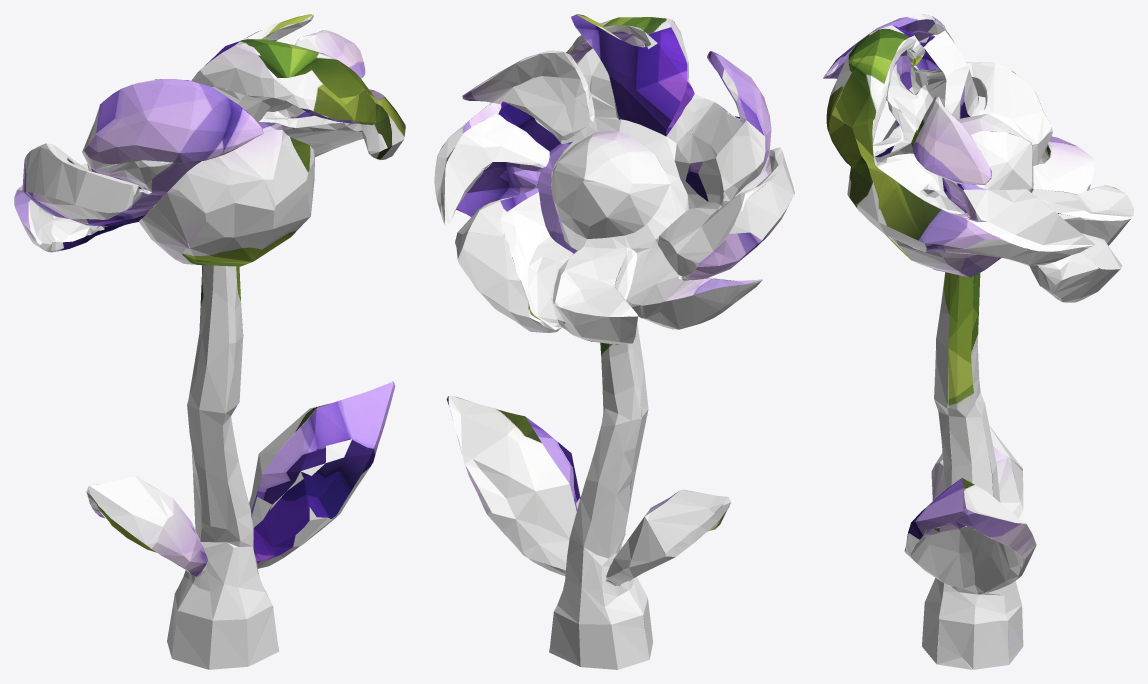
The model's file is MoonPetal_mature.obj.
The picture shows the model from 3 angles, left to right: view 1: azimuth 30°, elevation 25°; view 2: azimuth 150°, elevation 25°; view 3: azimuth 270°, elevation 25°; orthographic projection. The views are drawn at different scales.
Parts seen in each view (by area): view 1: MoonPetal_mature; view 2: MoonPetal_mature; view 3: MoonPetal_mature.
Part boxes in pixels (<box>): MoonPetal_mature: <box>14,14,405,669</box>; MoonPetal_mature: <box>434,14,794,669</box>; MoonPetal_mature: <box>823,14,1133,669</box>.
Bounding box in the file's own units: 1.16 × 2 × 0.9253.
